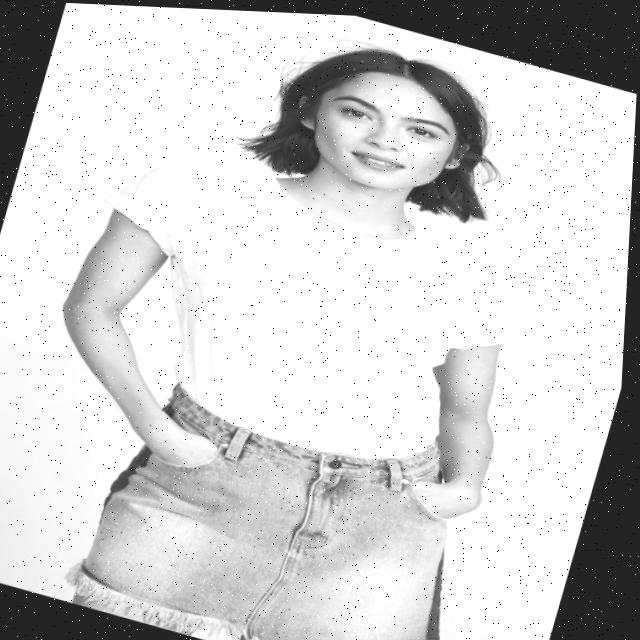Upper-Body: (107, 164, 524, 455)
